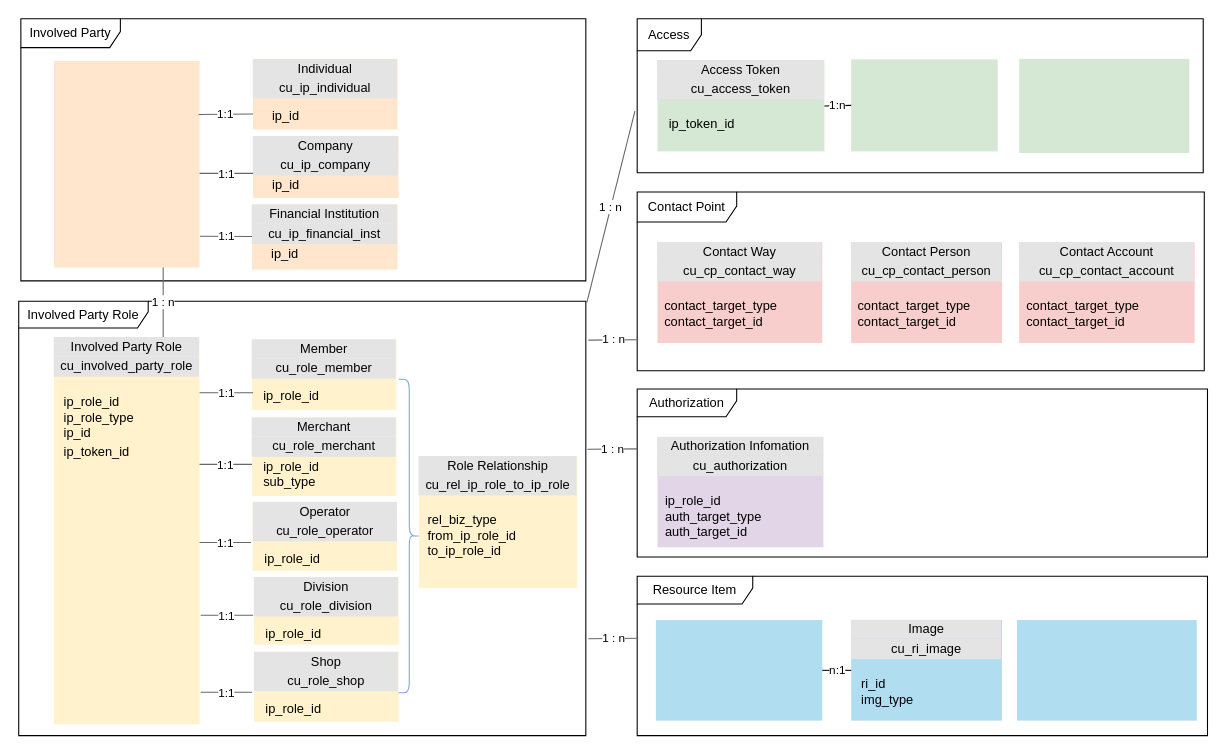
This 1226x754 diagram has some shape labels left out. The centre of each missing label's shape, as x and y in pixels:
"External Site Account cu_rel_role_site_acc ip_role_id rel_biz_type" goes at [1106,670].
"Involved Party cu_involved_party ip_id ip_type" goes at [126,163].
"Login ID cu_access_token_alias ip_token_id" goes at [924,105].
"Password cu_identification ident_target_type ident_target_id" goes at [1104,105].
"Role To Image cu_rel_role_image ip_role_id ri_id" goes at [738,670].
